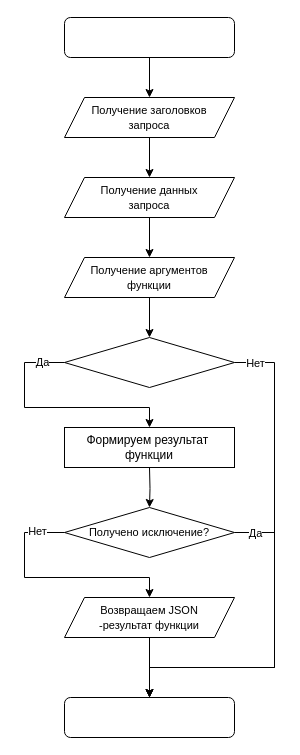
Image size: 300x755. Some labels were removed from this diagram. The centre of each missing label's shape, as x and y in pixels:
"Данные корректны?" goes at point 149,362.
"Конец" goes at point 149,717.
"Начало" goes at point 149,37.
